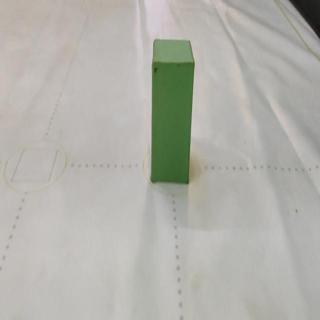greenbox: (149, 37, 197, 186)
